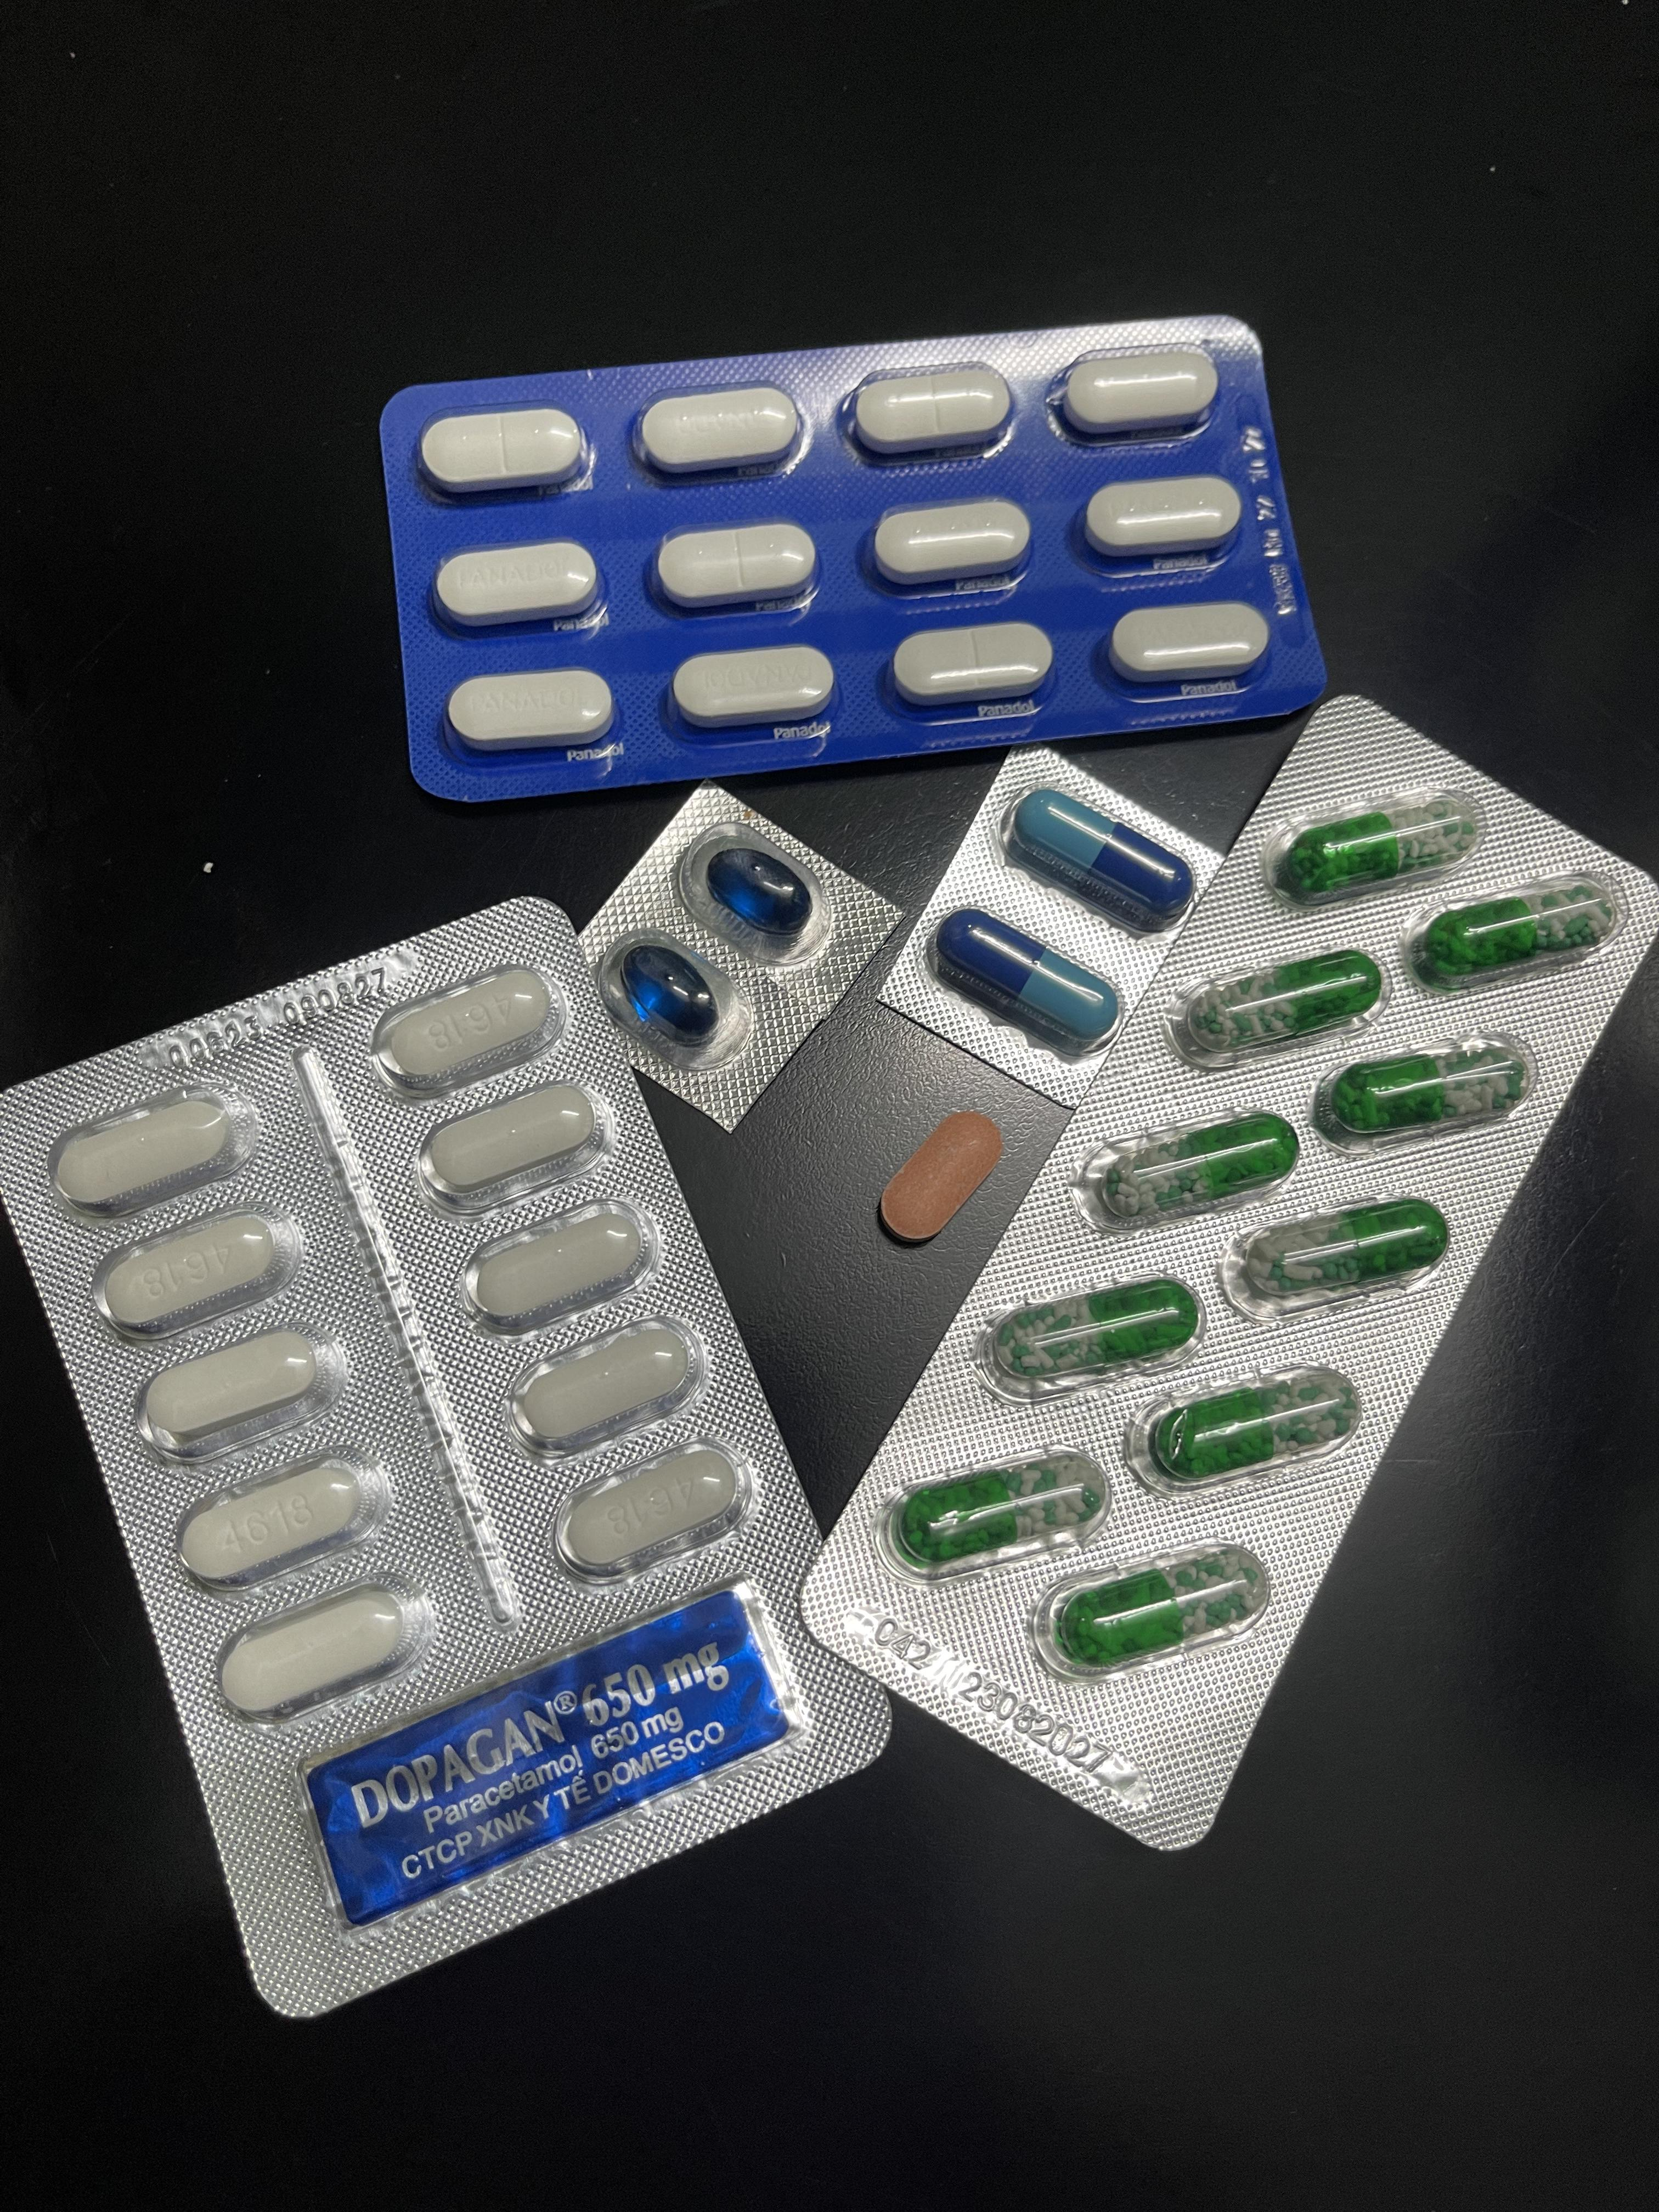Lincomyxin_500mg: (708, 845, 817, 941), (624, 946, 721, 1040)
Loratadine_10mg: (878, 1108, 1007, 1244)
Paracetamol_350mg: (436, 540, 601, 629), (852, 368, 1016, 456), (640, 387, 803, 475), (657, 523, 819, 611), (422, 408, 584, 496), (1060, 348, 1220, 437), (871, 498, 1032, 587), (448, 667, 613, 752), (892, 622, 1054, 707), (673, 644, 836, 728), (1108, 603, 1270, 685), (1086, 475, 1243, 559)
Paracetamol_500mg: (211, 1576, 436, 1724), (171, 1447, 390, 1594), (134, 1320, 345, 1463), (554, 1437, 753, 1587), (92, 1205, 303, 1345), (505, 1312, 702, 1458), (460, 1195, 655, 1338), (49, 1082, 256, 1216), (416, 1080, 608, 1214), (371, 963, 561, 1094)
Paracetamol_650mg: (1060, 1548, 1263, 1662), (1150, 1374, 1352, 1480), (899, 1461, 1098, 1561), (1096, 1120, 1293, 1217), (1276, 806, 1474, 902), (1251, 1205, 1446, 1294), (1335, 1047, 1528, 1132), (1204, 953, 1382, 1045), (1012, 1285, 1197, 1374), (1424, 888, 1607, 977)
pill: (1009, 791, 1192, 927), (941, 913, 1115, 1040)
